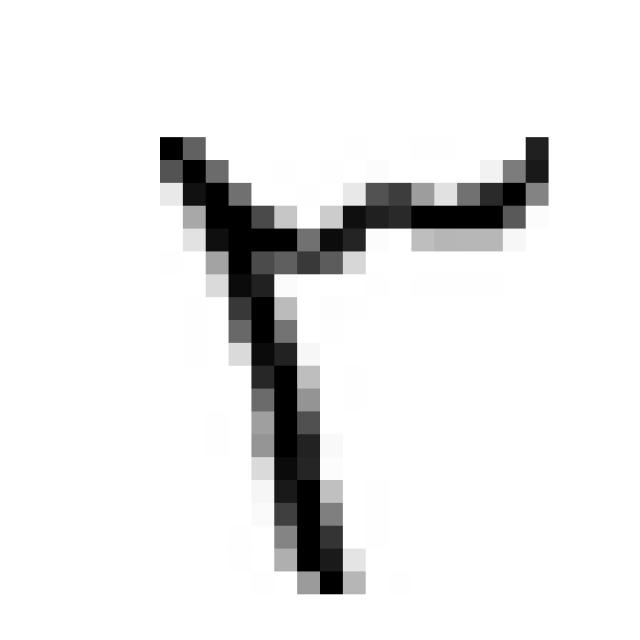3 -three-: (135, 105, 568, 608)
